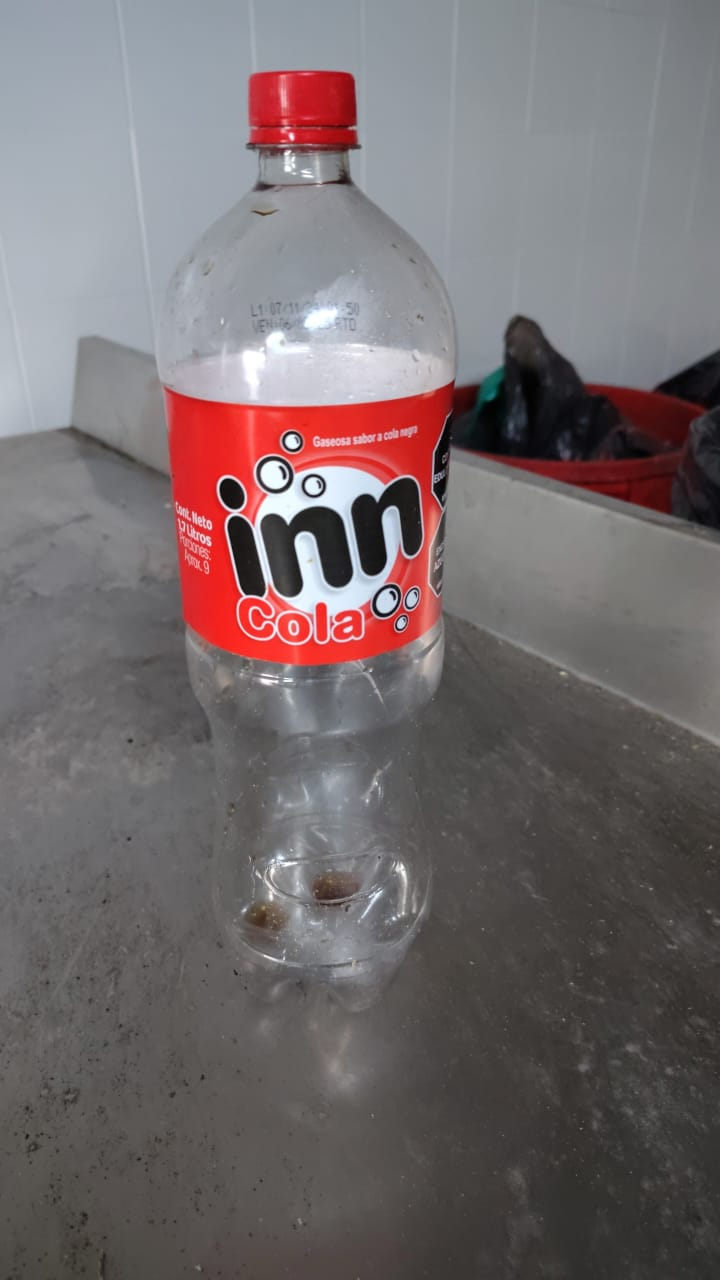Plastico: (162, 71, 457, 1009)
